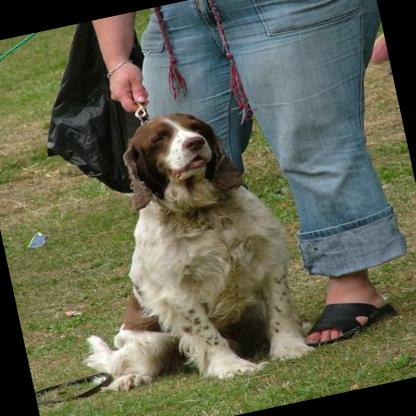English_springer: (33, 94, 316, 408)
